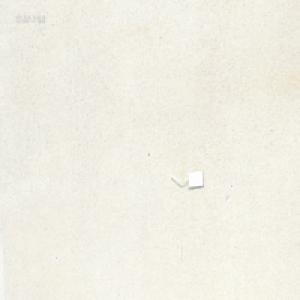LuggageTag: (169, 169, 204, 189)
